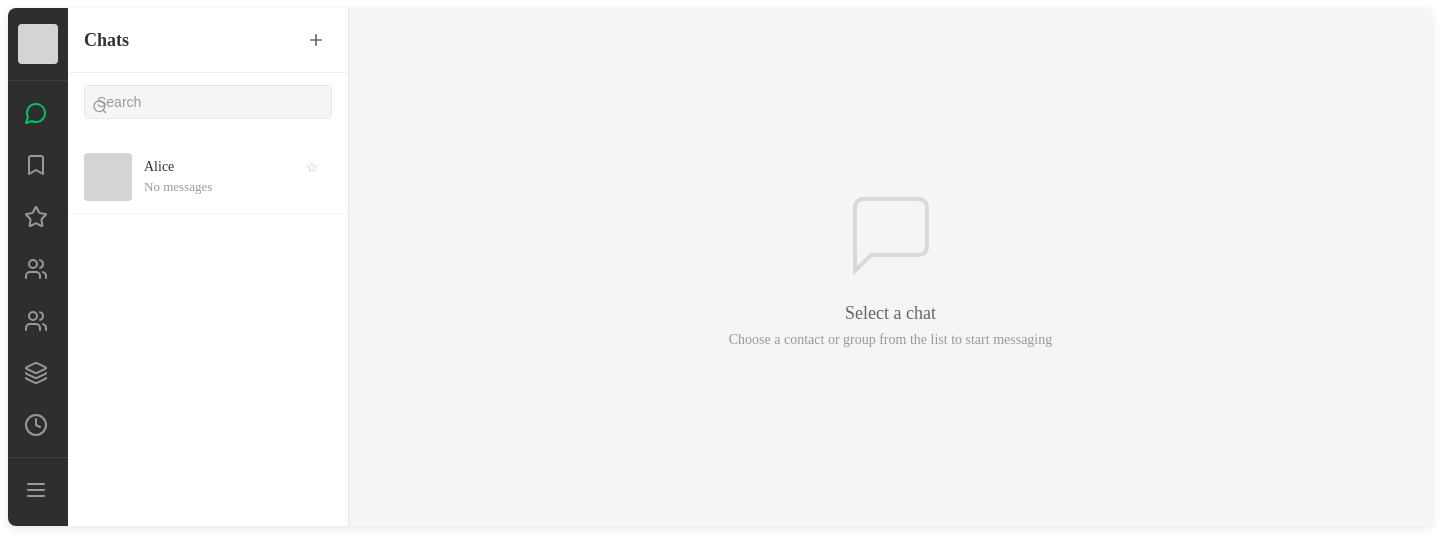
Test: ImMessenger favorites › shows empty state on Favorites tab when none starred
Click the 3rd button with class "nav-item".
click(36, 217)  # box [12,193,60,241]
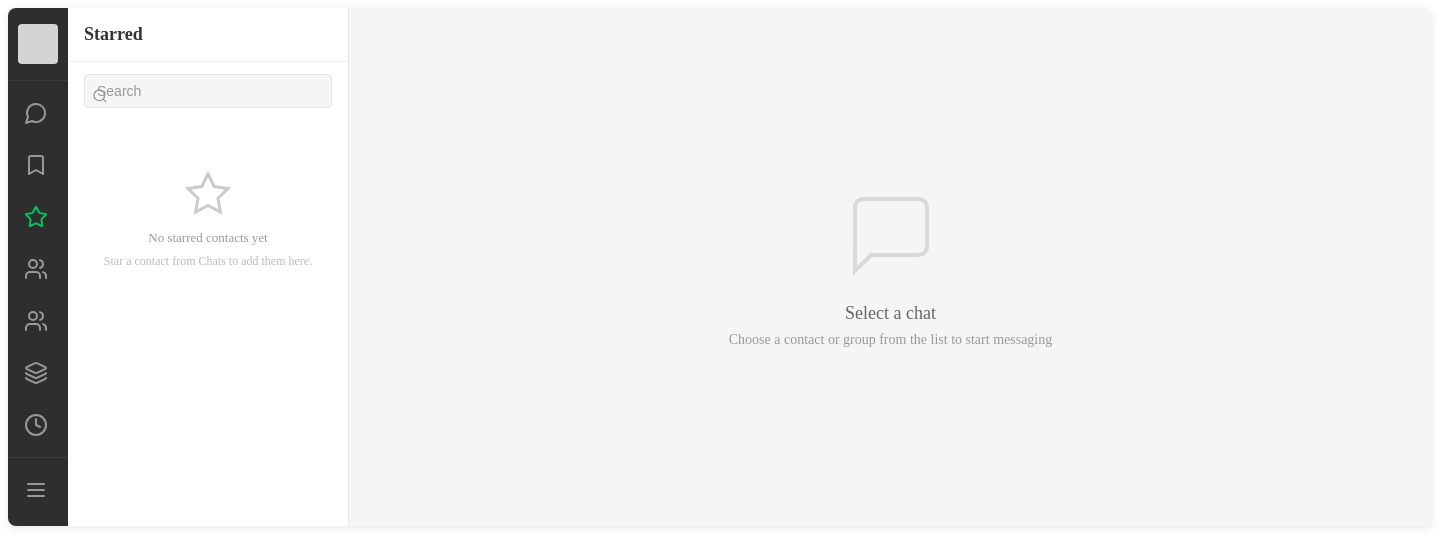
Expected: the text "No starred contacts yet" is shown, [148,230,268,246]
Expected: the text "Star a contact from Chats to add them here." is shown, [104,254,312,269]
